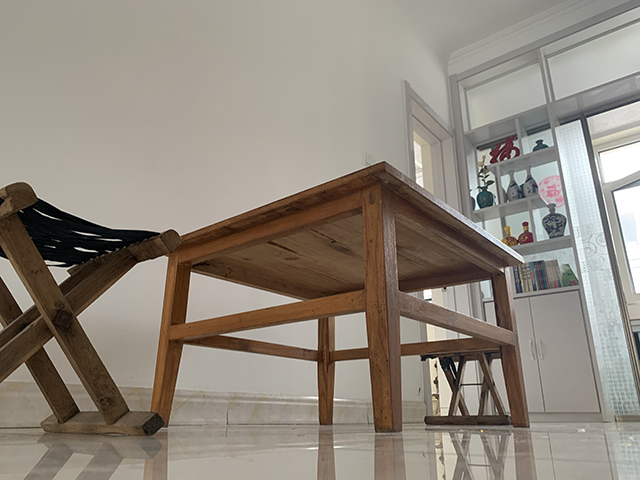cabinet: (485, 285, 608, 420)
stool: (1, 180, 185, 438), (421, 349, 513, 427)
table: (150, 161, 531, 433)
